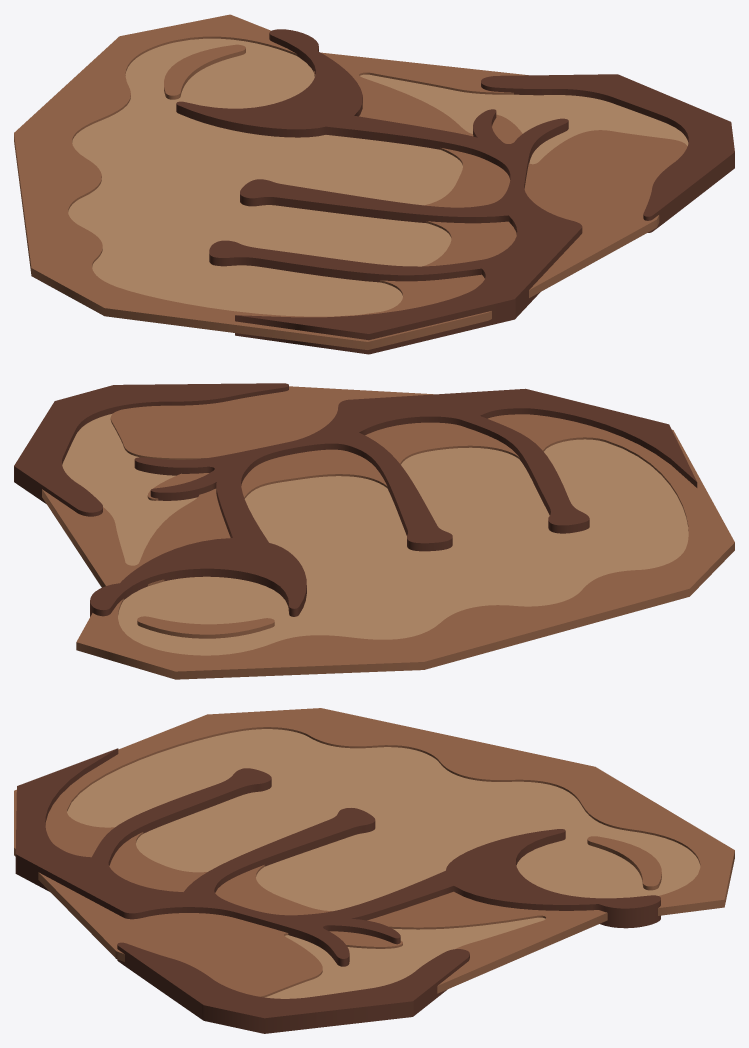
Rendered from emoji_u1faf5_1f3fd.glb.
3 views of the same model, one above another, from view 1: azimuth 30°, elevation 25°; view 2: azimuth 150°, elevation 25°; view 3: azimuth 270°, elevation 25° (orthographic). The views are drawn at different scales.
Parts seen in each view (by area): view 1: emoji_u1faf5_1f3fd; view 2: emoji_u1faf5_1f3fd; view 3: emoji_u1faf5_1f3fd.
Part boxes in pixels (x1,y1,x2,y2): emoji_u1faf5_1f3fd: (14,14,734,354); emoji_u1faf5_1f3fd: (14,383,734,679); emoji_u1faf5_1f3fd: (14,708,734,1033).
Size of the model in its own units: 0.0344 by 0.001 by 0.0333.
